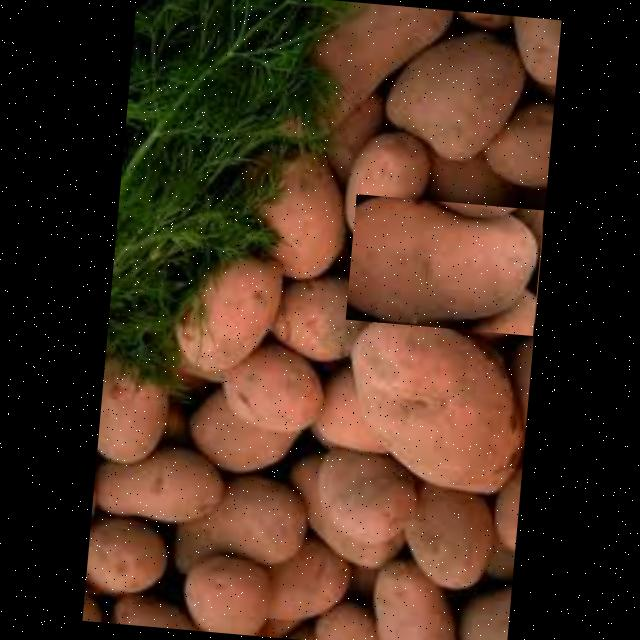Diseased-fungal potato: (334, 304, 530, 502), (344, 194, 542, 336)
